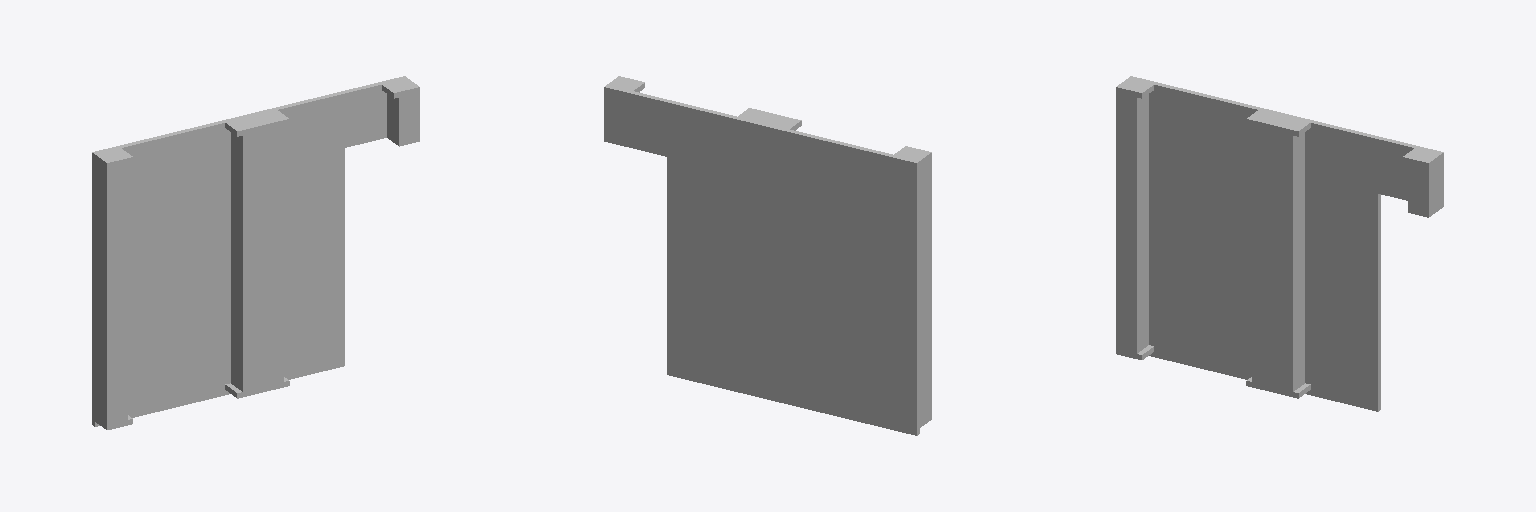
The model's file is KitchenEntrance2.obj.
The picture shows the model from 3 angles: view 1: azimuth 30°, elevation 25°; view 2: azimuth 150°, elevation 25°; view 3: azimuth 330°, elevation 25°; orthographic projection.
Visible parts, largest first — view 1: object 1; view 2: object 1; view 3: object 1.
Part boxes in pixels (left/top/right/bottom): object 1: left=92, top=76, right=419, bottom=429; object 1: left=604, top=76, right=931, bottom=435; object 1: left=1116, top=76, right=1443, bottom=411.
Bounding box in the file's own units: 12 × 10 × 1.